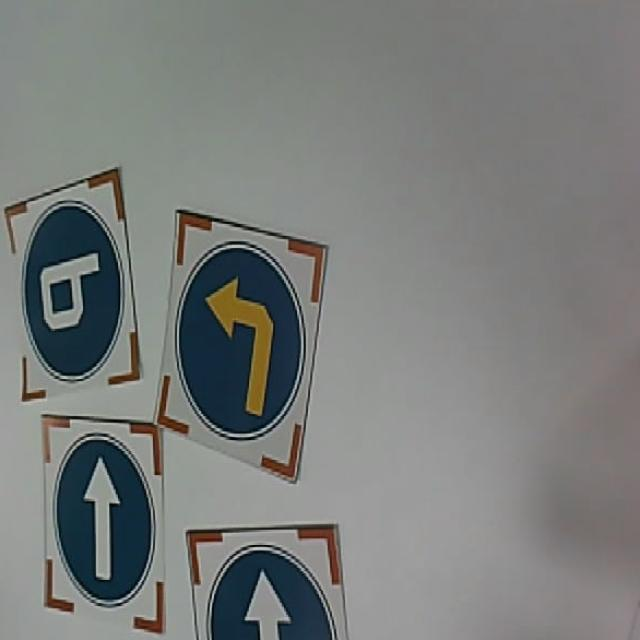parking: (8, 164, 144, 404)
straight: (45, 417, 163, 635), (191, 526, 341, 640)
turn: (160, 208, 327, 481)
